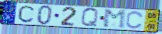0: (36, 5, 53, 26)
2: (60, 6, 78, 27)
C: (125, 11, 144, 30), (18, 4, 36, 23)
M: (103, 9, 127, 29)
Q: (81, 7, 100, 28)
